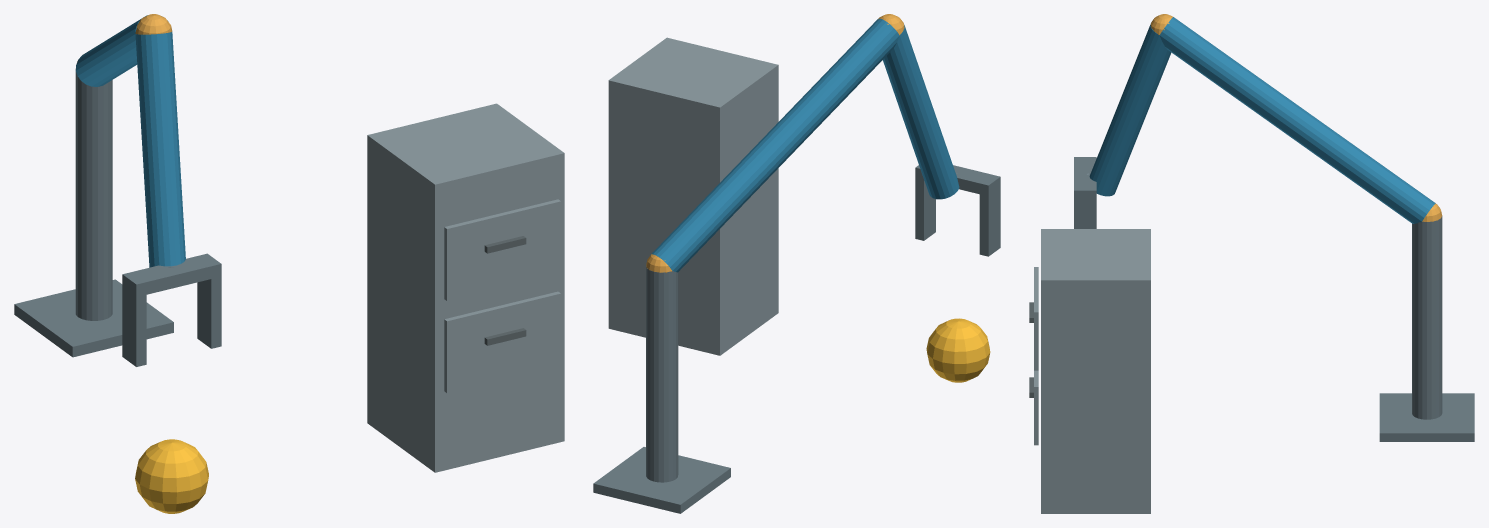
The picture shows the model from 3 angles, left to right: view 1: azimuth 30°, elevation 25°; view 2: azimuth 150°, elevation 25°; view 3: azimuth 270°, elevation 25°; orthographic projection. The views are drawn at different scales.
Parts seen in each view (by area): view 1: cabinet_1 body, fixed post, moving link 2, cabinet_1 drawer front, cabinet_1 drawer front.001, pedestal, ball ball_1, gripper bridge, moving link 1, gripper finger -1, gripper finger 1; view 2: cabinet_1 body, moving link 1, fixed post, moving link 2, pedestal, ball ball_1, gripper finger -1, gripper finger 1, gripper bridge; view 3: cabinet_1 body, moving link 1, fixed post, moving link 2, pedestal, gripper bridge, gripper finger 1, cabinet_1 drawer front.001.
Part boxes in pixels (x1,y1,x2,y2): cabinet_1 body: [367, 103, 564, 472]; fixed post: [75, 68, 112, 320]; moving link 2: [135, 32, 185, 267]; cabinet_1 drawer front: [444, 291, 560, 393]; cabinet_1 drawer front.001: [444, 199, 560, 300]; pedestal: [14, 279, 173, 357]; ball ball_1: [135, 439, 208, 513]; gripper bridge: [122, 253, 221, 297]; moving link 1: [75, 15, 168, 86]; gripper finger -1: [122, 287, 146, 366]; gripper finger 1: [197, 276, 221, 348]; cabinet_1 body: [608, 37, 778, 355]; moving link 1: [650, 18, 899, 272]; fixed post: [646, 266, 678, 482]; moving link 2: [883, 24, 959, 199]; pedestal: [593, 447, 730, 513]; ball ball_1: [926, 318, 990, 382]; gripper finger -1: [979, 188, 1000, 256]; gripper finger 1: [915, 178, 935, 240]; gripper bridge: [915, 165, 1000, 196]; cabinet_1 body: [1041, 229, 1150, 513]; moving link 1: [1159, 17, 1435, 223]; fixed post: [1412, 216, 1442, 419]; moving link 2: [1089, 24, 1171, 196]; pedestal: [1379, 393, 1474, 441]; gripper bridge: [1074, 157, 1096, 200]; gripper finger 1: [1074, 201, 1096, 228]; cabinet_1 drawer front.001: [1034, 267, 1038, 370].
Size of the model in its own units: 1.01 by 1.06 by 1.17.
